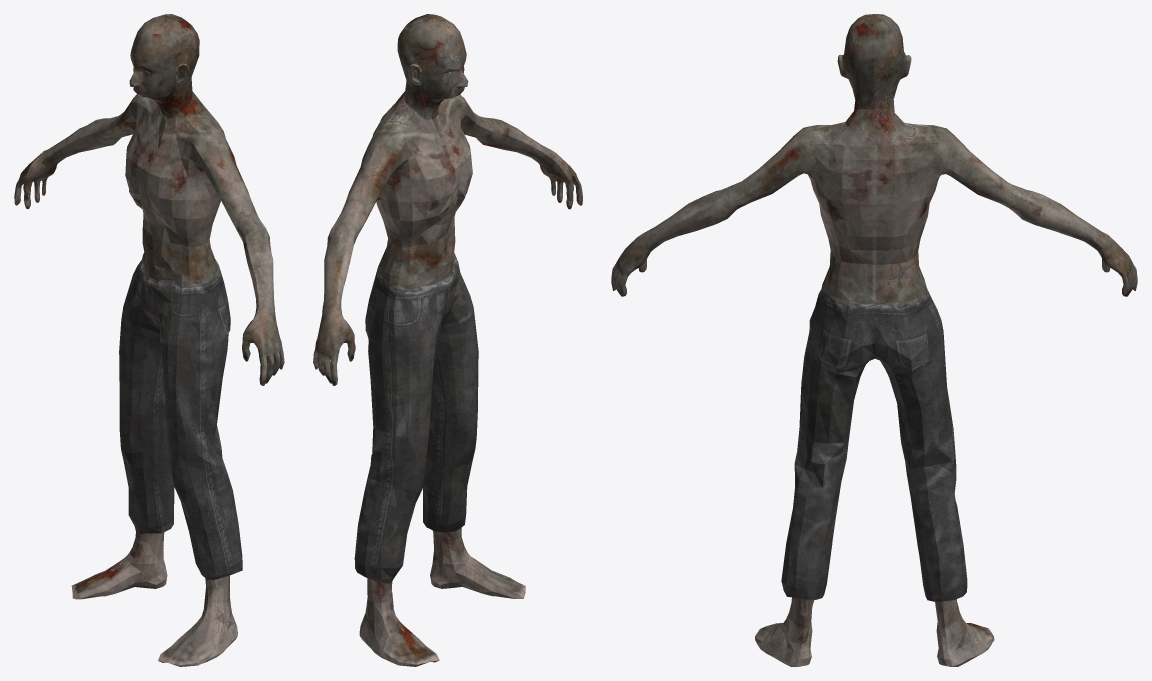
File: Zombie Man.fbx
3 renders of one model, left to right at view 1: azimuth 30°, elevation 25°; view 2: azimuth 150°, elevation 25°; view 3: azimuth 270°, elevation 25°, orthographic. The views are drawn at different scales.
Visible parts, largest first — view 1: Body, L_Arm, Head, R_Arm; view 2: Body, R_Arm, Head, L_Arm; view 3: Body, L_Arm, R_Arm, Head.
Part boxes in pixels (<box>): Body: <box>71,91,242,666</box>; L_Arm: <box>189,133,284,385</box>; Head: <box>129,14,199,119</box>; R_Arm: <box>14,94,142,208</box>; Body: <box>354,91,525,666</box>; R_Arm: <box>313,134,407,385</box>; Head: <box>397,14,468,120</box>; L_Arm: <box>454,94,582,209</box>; Body: <box>755,108,994,666</box>; L_Arm: <box>611,125,816,296</box>; R_Arm: <box>934,125,1137,296</box>; Head: <box>837,14,911,112</box>.
Size of the model in its own units: 0.4389 by 2.5 by 1.87.
1 material, 1 textured.
